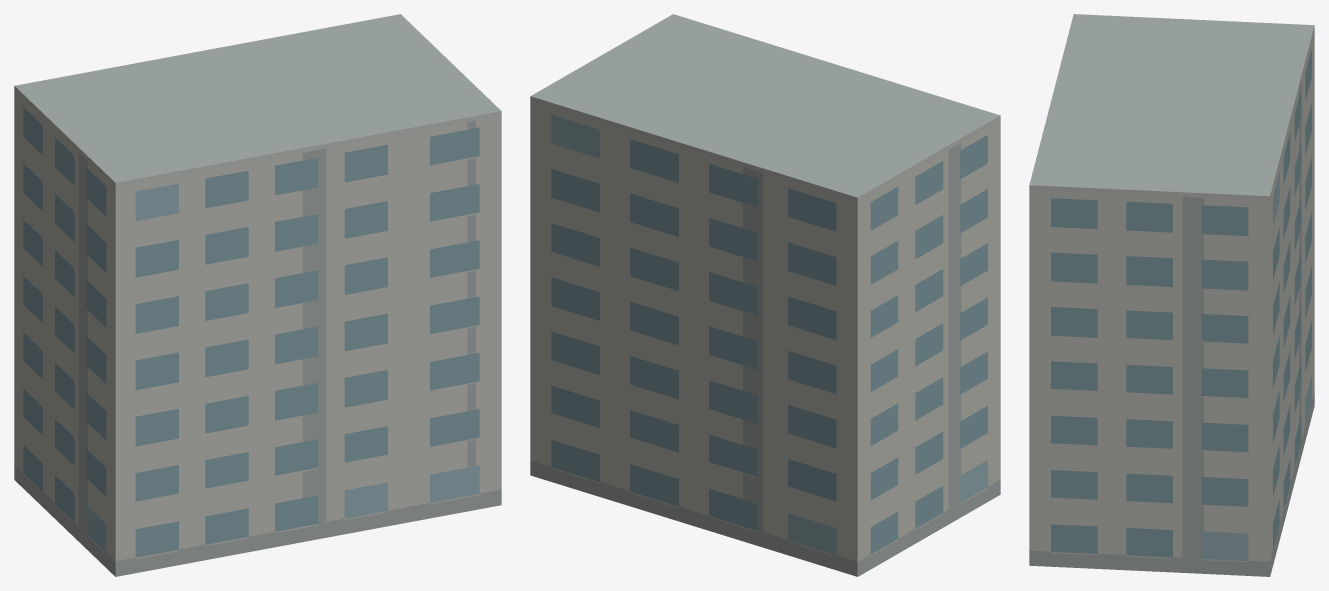
Rendered from survey-upis-32812996.glb.
3 views of the same model, side by side, from view 1: azimuth 30°, elevation 25°; view 2: azimuth 150°, elevation 25°; view 3: azimuth 270°, elevation 25° (orthographic). The views are drawn at different scales.
Visible parts, largest first — view 1: survey-upis-32812996.tmp; view 2: survey-upis-32812996.tmp; view 3: survey-upis-32812996.tmp.
Boxes of the visible parts, x1,y1,x2,y2 form: survey-upis-32812996.tmp: (14, 14, 501, 576); survey-upis-32812996.tmp: (530, 14, 1000, 576); survey-upis-32812996.tmp: (1029, 14, 1314, 576).
Size of the model in its own units: 20.66 by 20.1 by 13.66.
